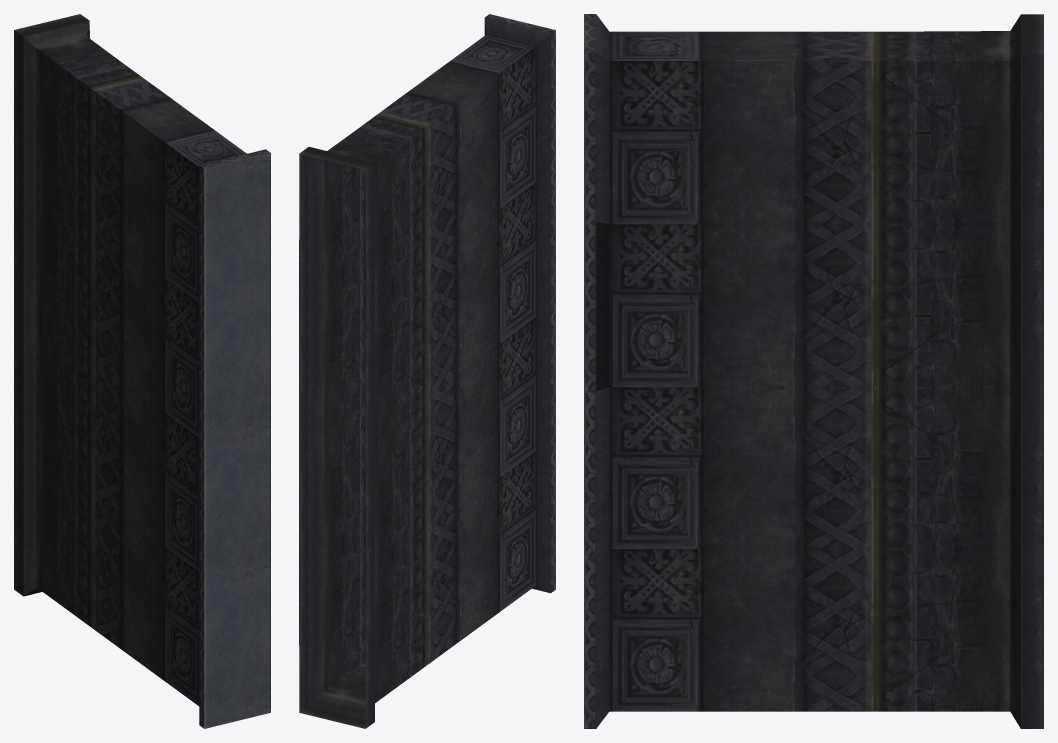
The model's file is huodong_fuben_652_pingtai02_qiang01c.obj.
The picture shows the model from 3 angles, left to right: view 1: azimuth 30°, elevation 25°; view 2: azimuth 150°, elevation 25°; view 3: azimuth 270°, elevation 25°; orthographic projection. The views are drawn at different scales.
Parts seen in each view (by area): view 1: huodong_fuben_652_pingtai02_qiang01c; view 2: huodong_fuben_652_pingtai02_qiang01c; view 3: huodong_fuben_652_pingtai02_qiang01c.
Boxes of the visible parts, bbox=[...] form: huodong_fuben_652_pingtai02_qiang01c: bbox=[14, 14, 270, 728]; huodong_fuben_652_pingtai02_qiang01c: bbox=[299, 14, 555, 728]; huodong_fuben_652_pingtai02_qiang01c: bbox=[584, 14, 1043, 728].
Size of the model in its own units: 214 by 1725 by 1064.
1 material, 1 textured.
